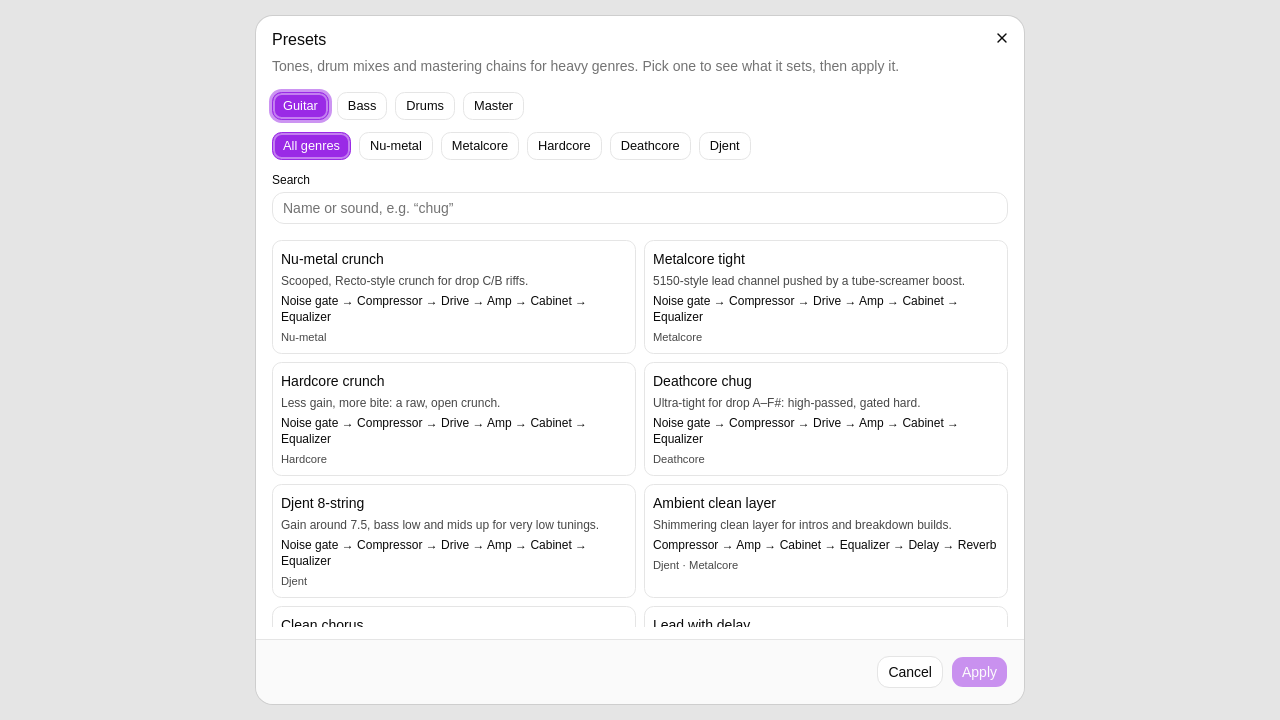
Test case: PresetBrowserDialog (#42) › switches what it is for and searches names and descriptions
The width and height of the screenshot is (1280, 720).
Click the radio button labelled "Master": (494, 106) [463, 92, 524, 120]
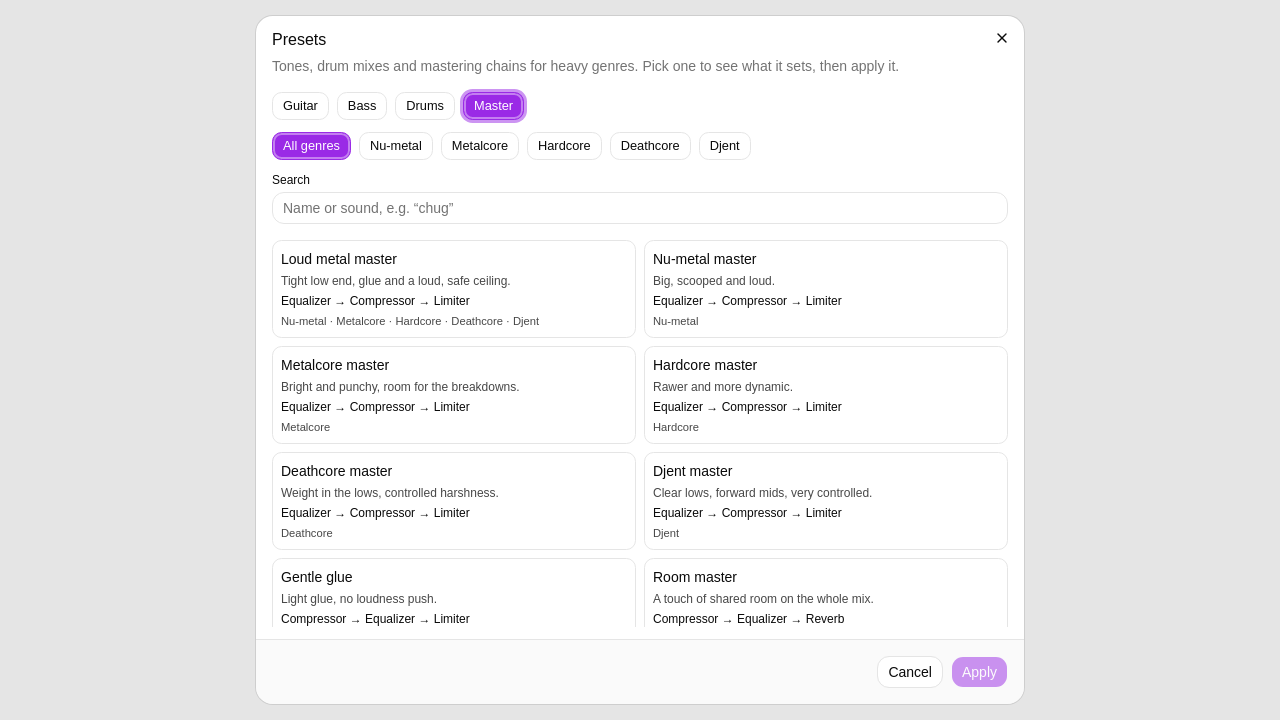
Expected: the text "Djent master" is shown, [653, 463, 732, 479]
In the search field labelled "Search": (640, 208) [272, 192, 1008, 224], type "weight"
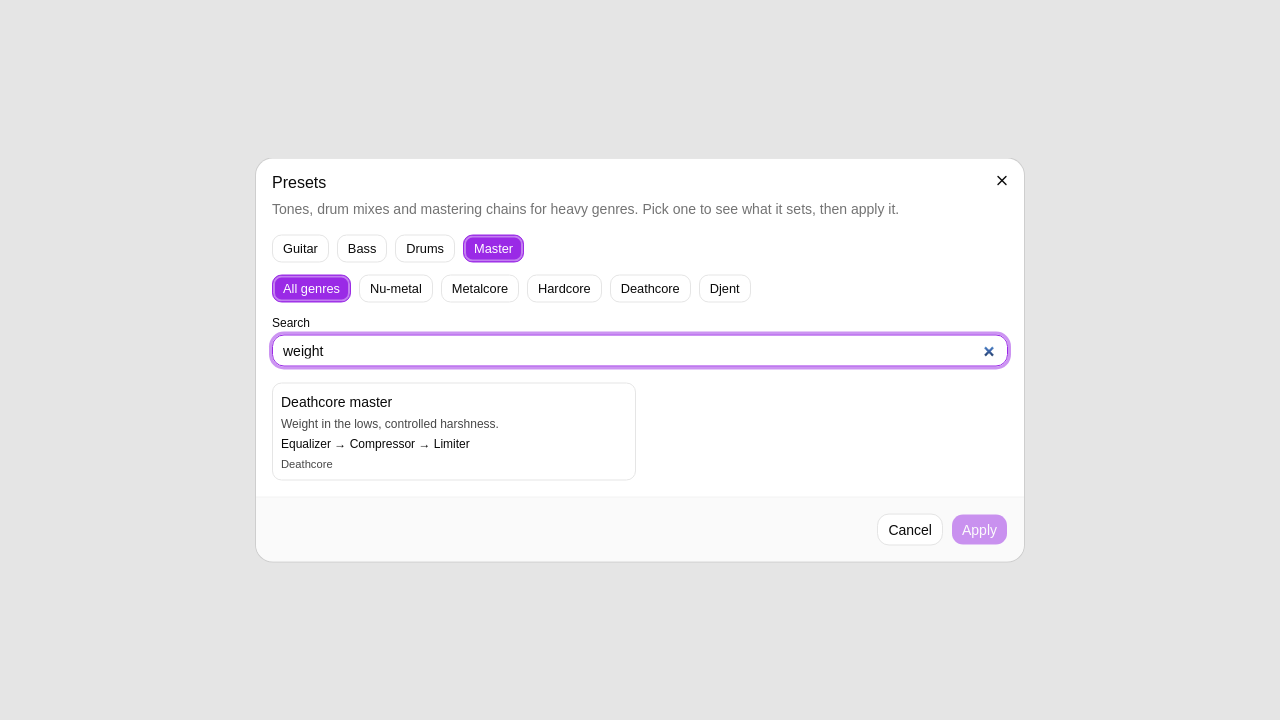
Clear the search field labelled "Search": (640, 350) [272, 334, 1008, 366]
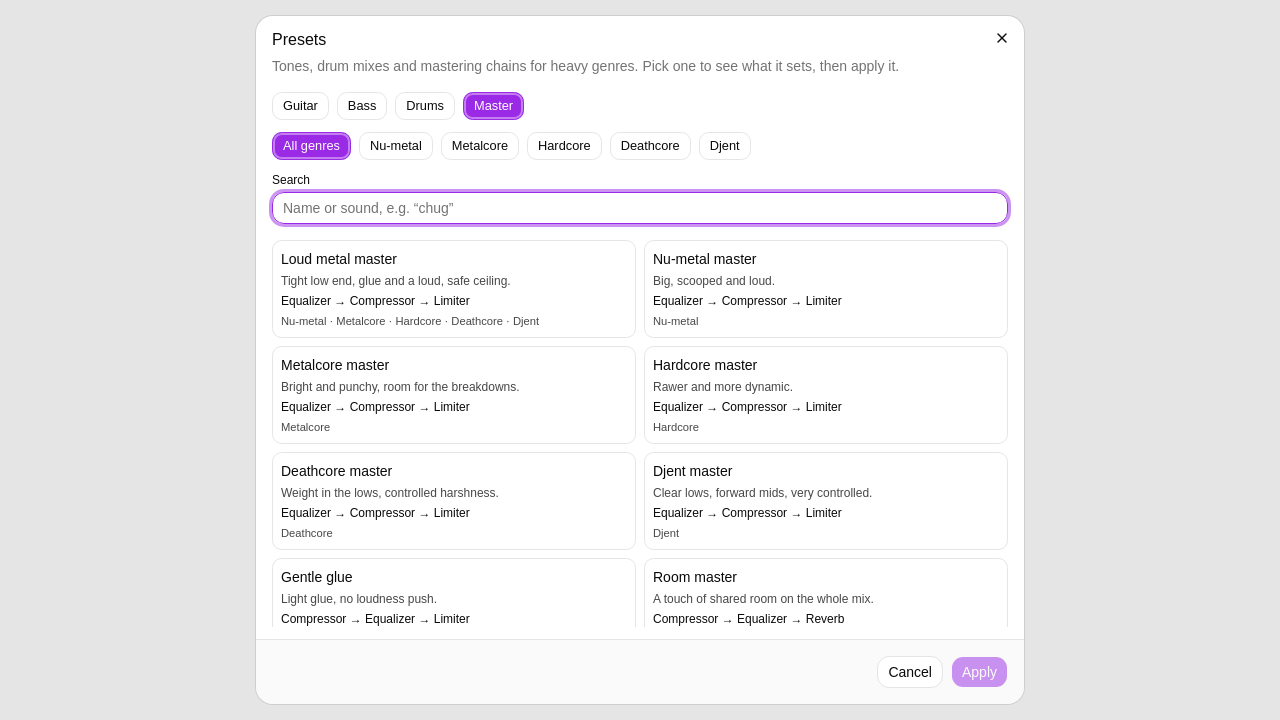
In the search field labelled "Search": (640, 208) [272, 192, 1008, 224], type "zzz"
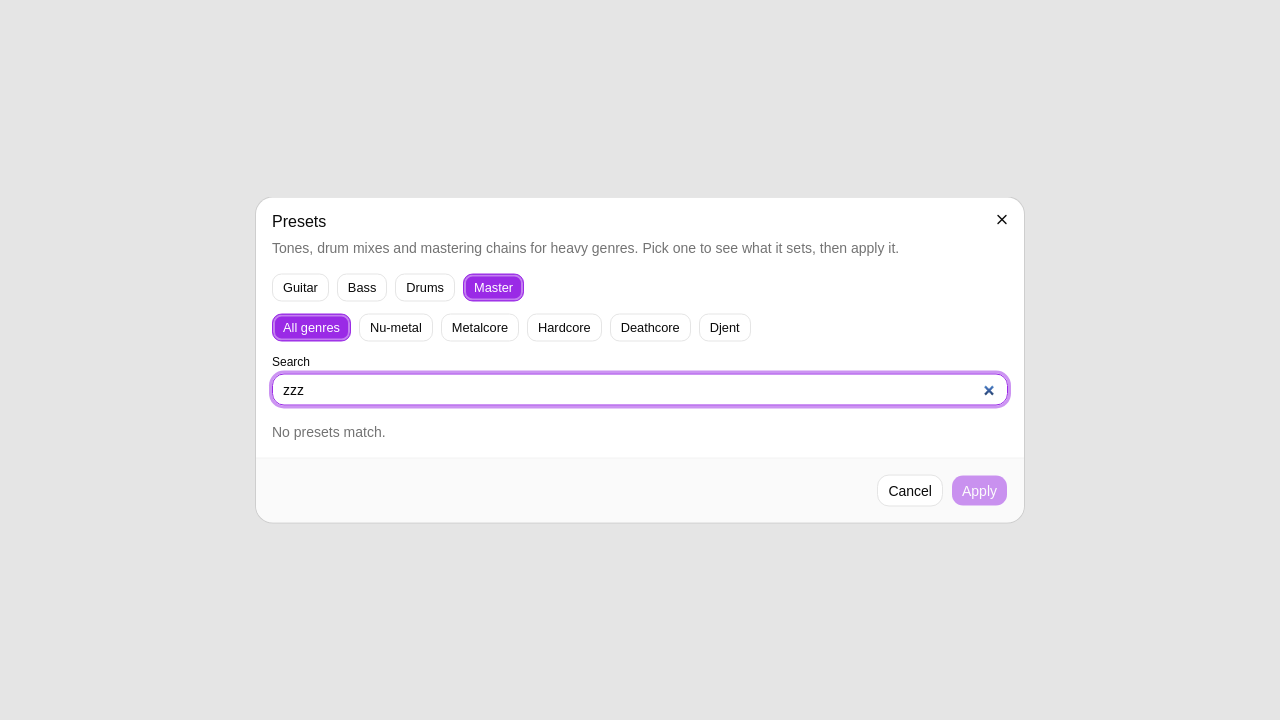
Expected: the text "No presets match." is shown, [272, 424, 386, 440]
